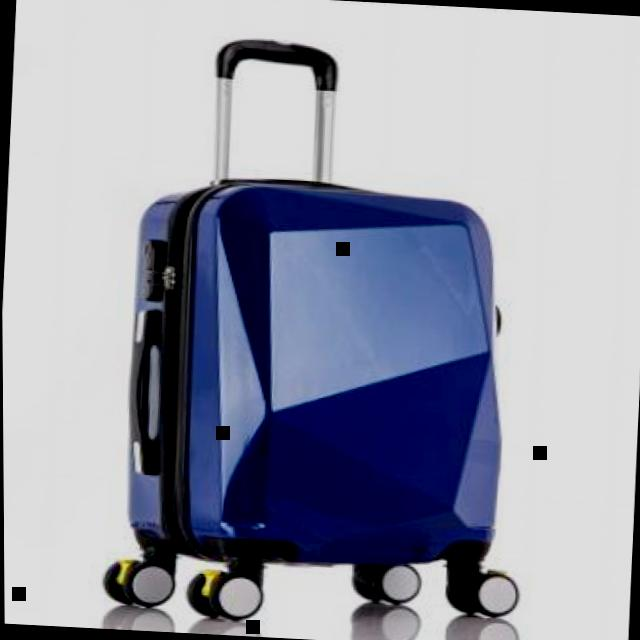luggage: (109, 169, 525, 580)
